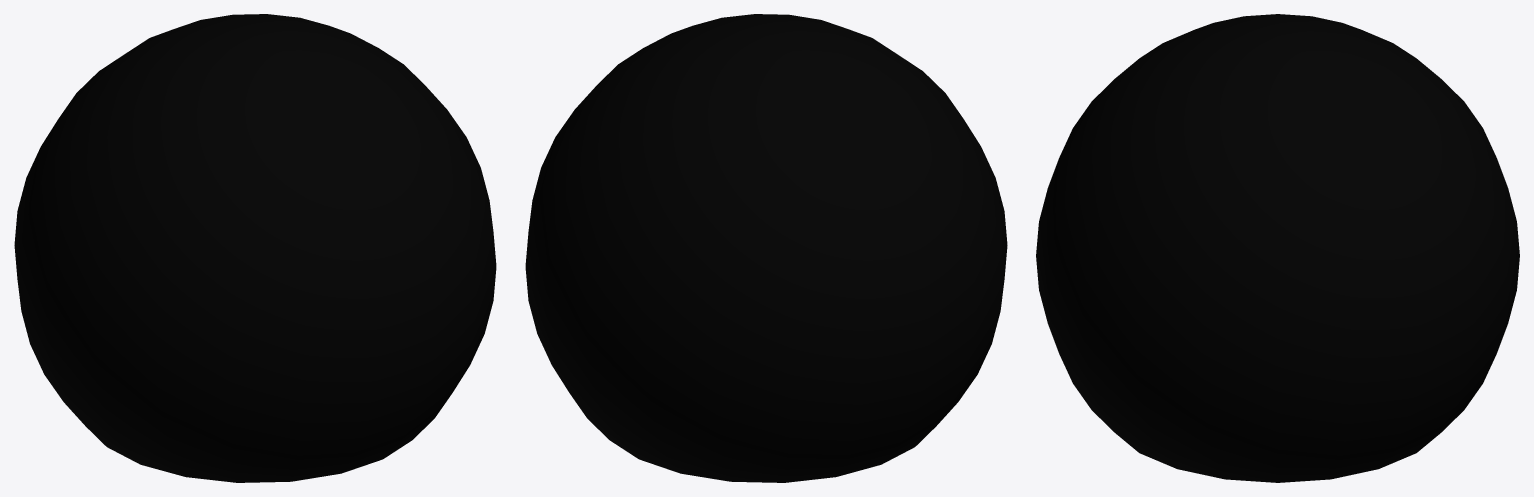
Rendered from shark.fbx.
The picture shows the model from 3 angles, left to right: view 1: azimuth 30°, elevation 25°; view 2: azimuth 150°, elevation 25°; view 3: azimuth 270°, elevation 25°; orthographic projection.
Visible parts, largest first — view 1: pSphere15; view 2: pSphere15; view 3: pSphere15.
Boxes of the visible parts, x1,y1,x2,y2 form: pSphere15: (14, 14, 496, 482); pSphere15: (525, 14, 1007, 482); pSphere15: (1036, 14, 1519, 482).
Bounding box in the file's own units: 24.48 × 20.87 × 24.48.
Materials: 1 (1 with a texture image).
